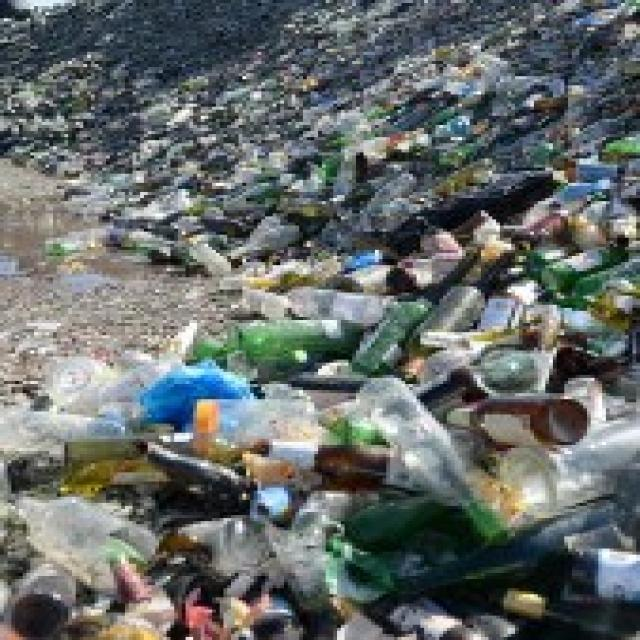electronic: (0, 272, 640, 640)
